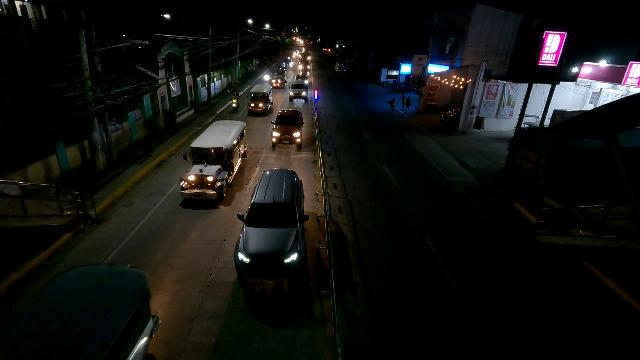car: (234, 168, 308, 278), (270, 108, 304, 149), (288, 80, 309, 101), (293, 74, 309, 88), (298, 65, 310, 76), (299, 59, 310, 70), (282, 57, 293, 68), (277, 62, 287, 72)
jeepney: (177, 120, 248, 202), (246, 84, 273, 116), (268, 69, 286, 89)
motorcycle: (232, 92, 240, 112)
